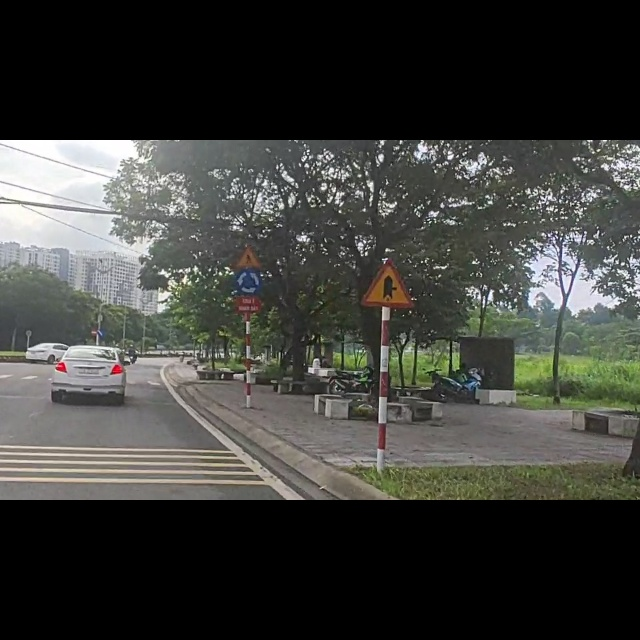bien_hieu_lenh: (359, 207, 417, 302), (237, 187, 263, 230), (236, 233, 263, 274), (97, 335, 106, 352), (90, 335, 97, 348)
